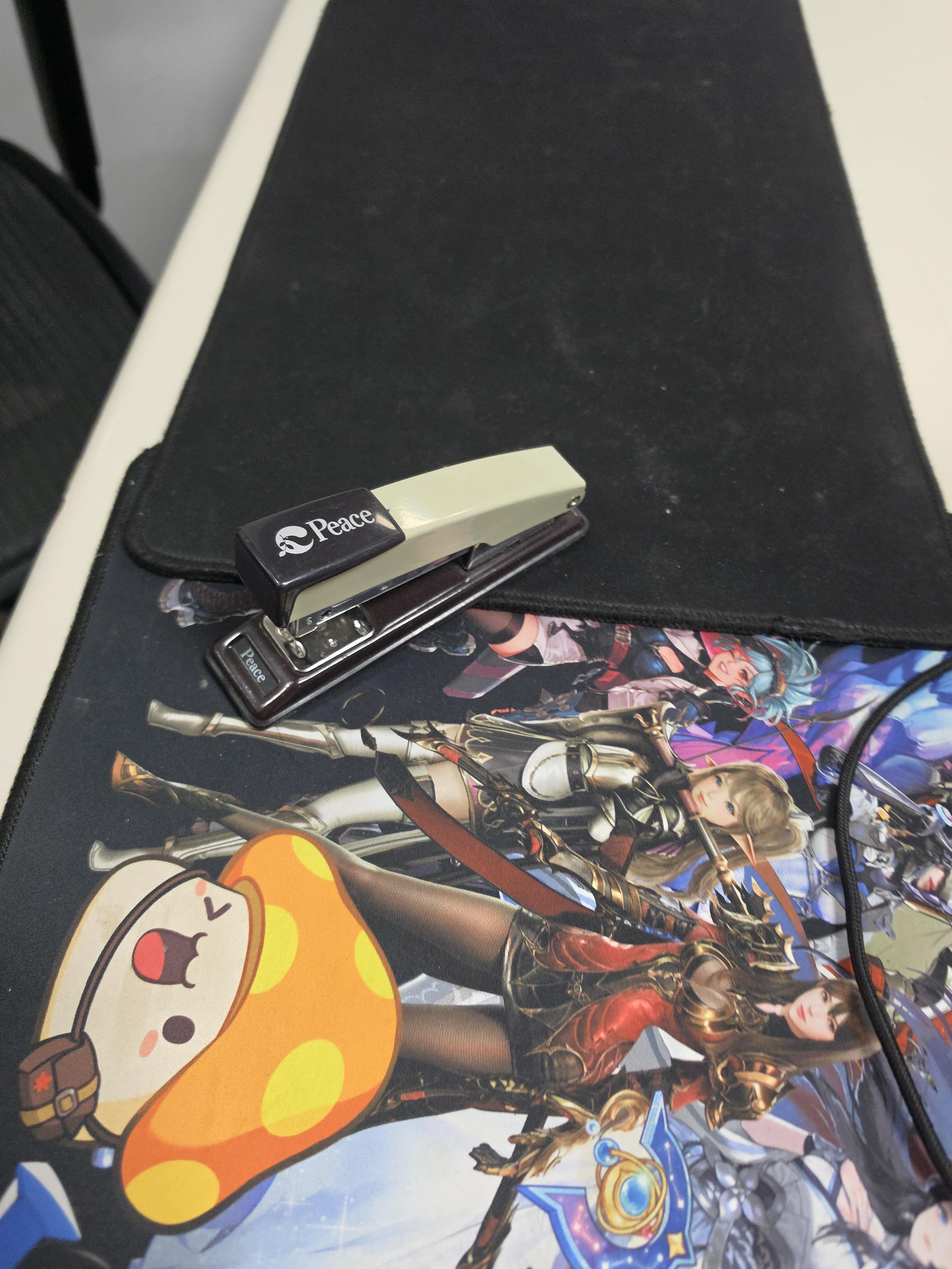stapler: (204, 444, 591, 729)
